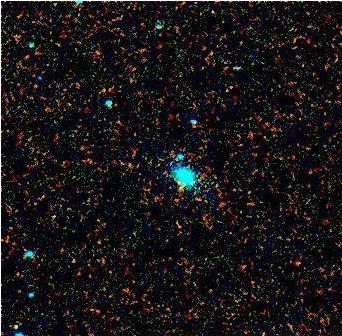star: (0, 310, 29, 336)
